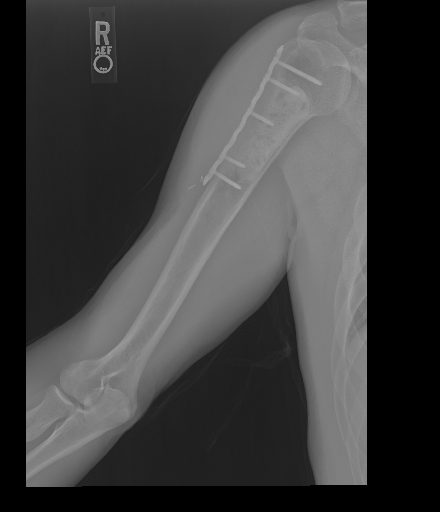implant: (201, 43, 323, 191)
